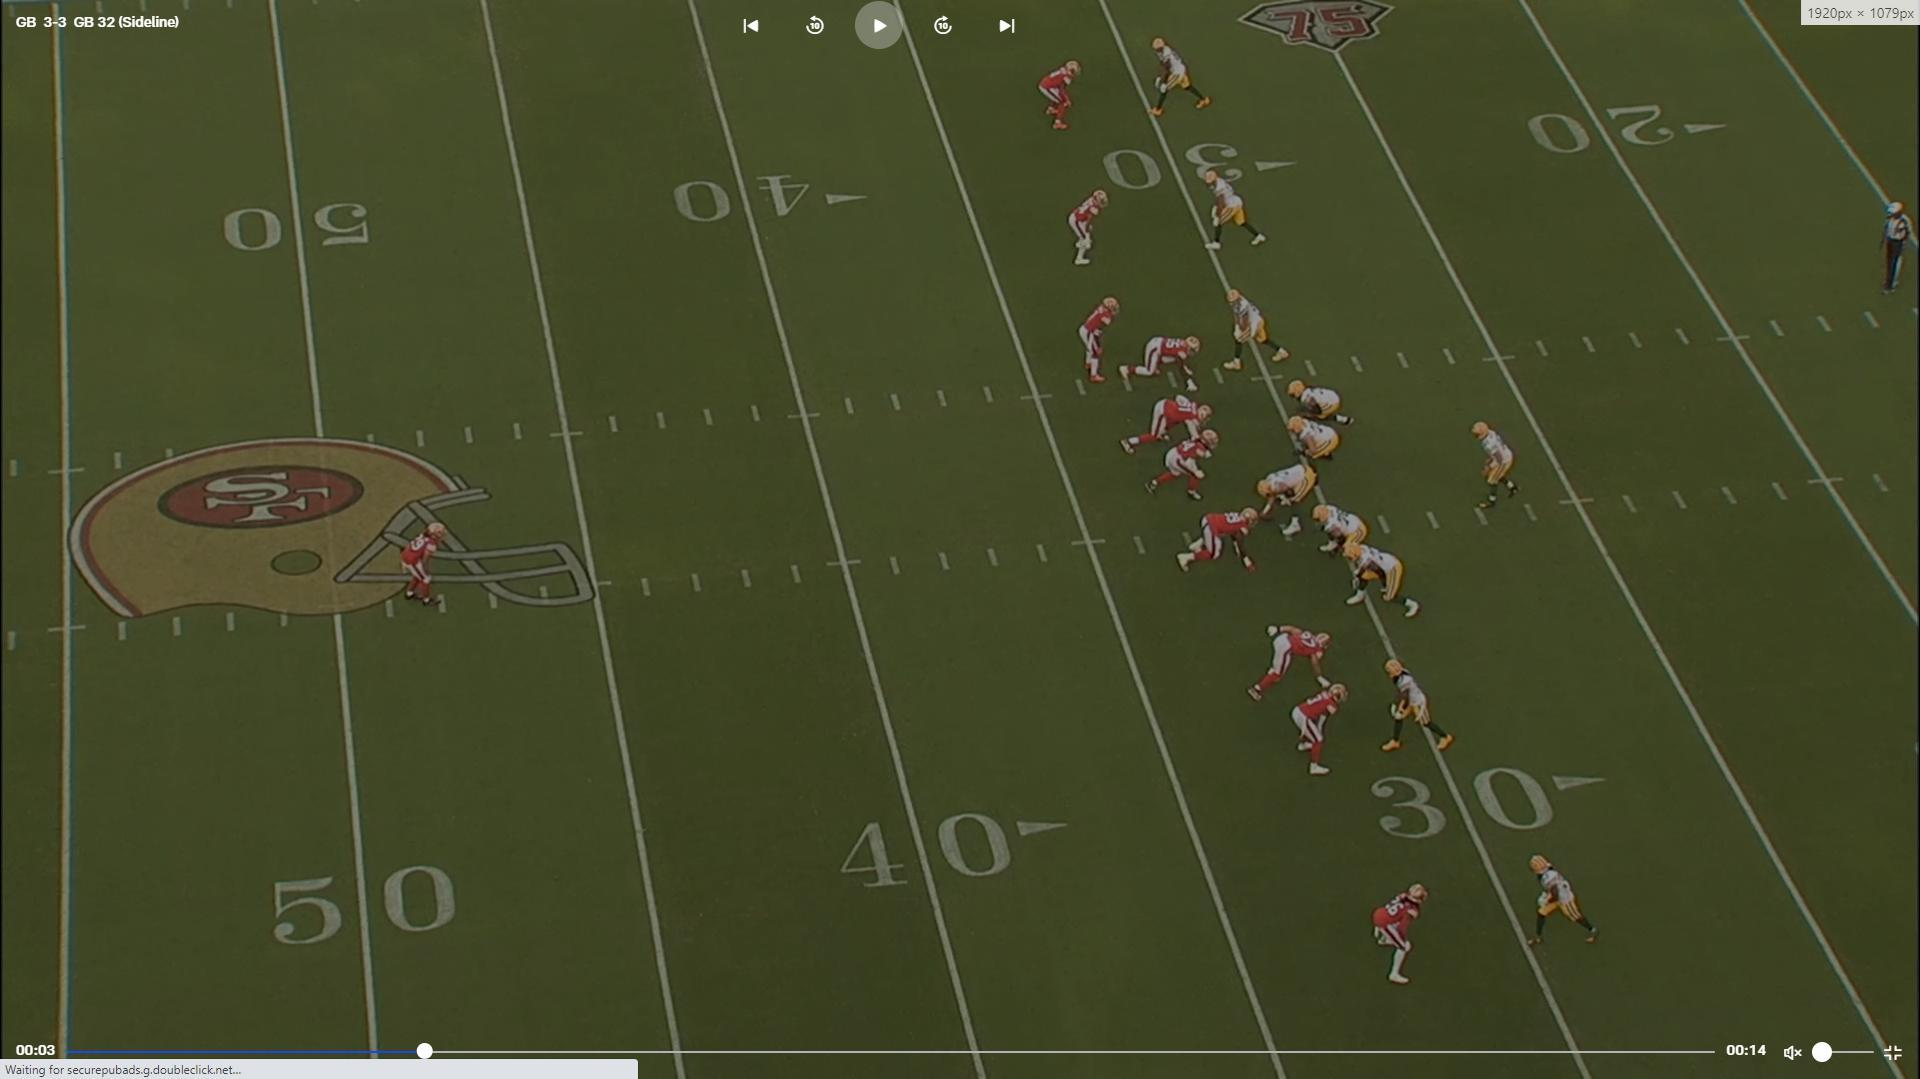defense: (1250, 623, 1338, 704), (1371, 880, 1432, 984), (1294, 681, 1354, 781), (1178, 509, 1265, 576), (1125, 393, 1212, 454), (1147, 433, 1218, 504), (1125, 335, 1207, 393), (1072, 297, 1121, 390), (401, 518, 450, 612), (1065, 186, 1110, 272), (1039, 55, 1083, 135)
oline: (1348, 541, 1424, 623), (1253, 460, 1321, 533), (1319, 501, 1378, 567), (1283, 416, 1341, 476), (1284, 376, 1349, 430)
qb: (1472, 419, 1519, 516)
ref: (1880, 198, 1917, 298)
skill: (1381, 654, 1455, 760), (1530, 848, 1605, 951), (1203, 162, 1274, 261), (1145, 32, 1213, 123), (1226, 284, 1294, 372)
